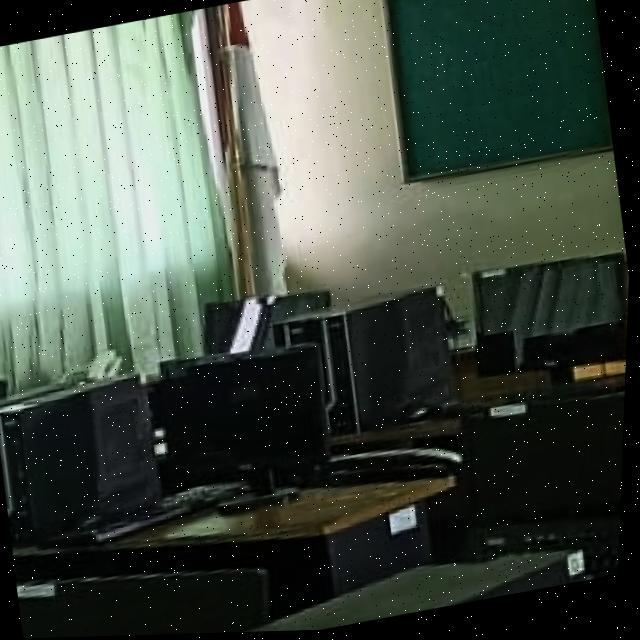offscreen: (163, 347, 331, 465), (474, 401, 628, 527), (476, 259, 629, 377)
